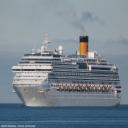cruises: (12, 31, 124, 110)
